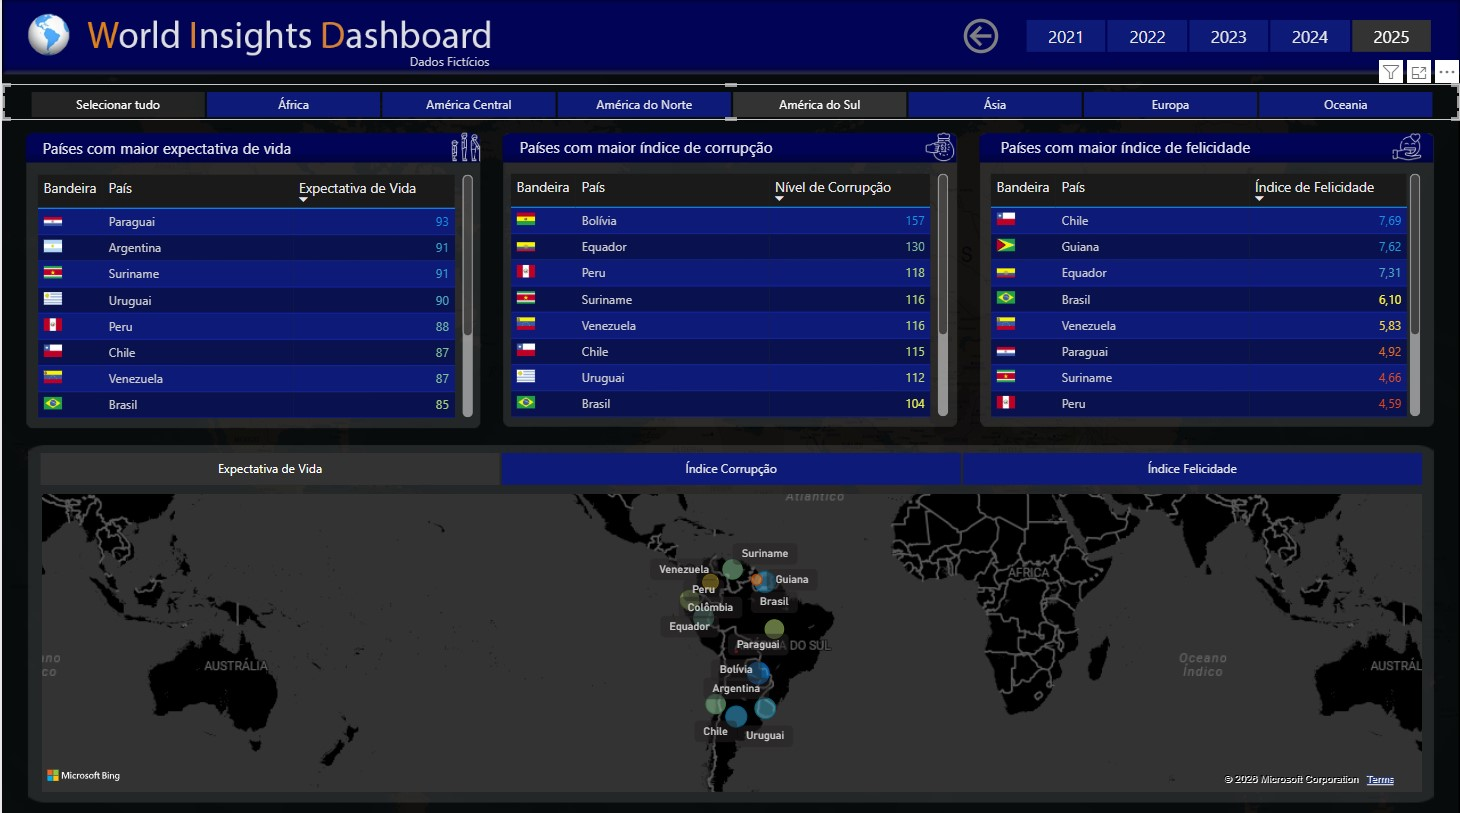

The page's visual inventory and layout, read from the dashboard file:
{"tool":"powerbi","page":{"name":"Global Overview","canvas":[1280,720],"ordinal":1},"visuals":[{"type":"slicer","fields":{"Values":["dCalendario.Date.Variation.Hierarquia de datas.Ano"]},"box":[874,11.4,405,42.1],"z":0},{"type":"slicer","fields":{"Values":["PLANILHA_PAISES.Continente"]},"box":[0,74.6,1280,31.6],"z":1000},{"type":"map","fields":{"Category":["PLANILHA_PAISES.País"],"Size":["Medidas.Valor Selecionado"]},"box":[29.9,429.4,1222.2,272.2],"z":2000},{"type":"slicer","fields":{"Values":["Indicador.Indicador"]},"box":[7.9,391.6,1262.6,42.1],"z":3000},{"type":"tableEx","fields":{"Values":["PLANILHA_PAISES.CountryFlag","PLANILHA_PAISES.País","PLANILHA_PAISES.Espectativa de Vida"]},"box":[25.5,149.3,393.4,223],"z":4000},{"type":"image","box":[389.9,112.4,35.1,35.1],"z":5000},{"type":"textbox","box":[30.7,116.8,256.4,30.7],"z":6000},{"type":"tableEx","fields":{"Values":["PLANILHA_PAISES.CountryFlag","PLANILHA_PAISES.País","PLANILHA_PAISES.Índice de Felicidade"]},"box":[862.4,148.4,388.1,223],"z":7000},{"type":"image","box":[1216.2,112.4,35.1,35.1],"z":8000},{"type":"textbox","box":[871.9,116,256.4,30.7],"z":9000},{"type":"textbox","box":[353,39.5,90.4,31.6],"z":10000},{"type":"tableEx","fields":{"Values":["PLANILHA_PAISES.CountryFlag","PLANILHA_PAISES.País","PLANILHA_PAISES.Nível de Corrupção"]},"box":[440.7,148.4,395.1,223],"z":11000},{"type":"image","box":[805.9,112.4,35.1,35.1],"z":12000},{"type":"textbox","box":[449.4,116,312.6,30.7],"z":13000},{"type":"actionButton","box":[839.4,12.3,44.8,40.4],"z":14001}]}

Visuals, with their boxes in screenshot pixels (x1, y1, x2, y2), scaled from the page's 1280x720 canvas onto the 1460x813 screenshot:
slicer - dCalendario.Date.Variation.Hierarquia de datas.Ano: {"x1": 997, "y1": 13, "x2": 1459, "y2": 60}
slicer - PLANILHA_PAISES.Continente: {"x1": 0, "y1": 84, "x2": 1459, "y2": 120}
map - PLANILHA_PAISES.País x Medidas.Valor Selecionado: {"x1": 34, "y1": 485, "x2": 1428, "y2": 792}
slicer - Indicador.Indicador: {"x1": 9, "y1": 442, "x2": 1449, "y2": 490}
tableEx - PLANILHA_PAISES.CountryFlag x PLANILHA_PAISES.País: {"x1": 29, "y1": 169, "x2": 478, "y2": 420}
image: {"x1": 445, "y1": 127, "x2": 485, "y2": 167}
textbox: {"x1": 35, "y1": 132, "x2": 327, "y2": 167}
tableEx - PLANILHA_PAISES.CountryFlag x PLANILHA_PAISES.País: {"x1": 984, "y1": 168, "x2": 1426, "y2": 419}
image: {"x1": 1387, "y1": 127, "x2": 1427, "y2": 167}
textbox: {"x1": 995, "y1": 131, "x2": 1287, "y2": 166}
textbox: {"x1": 403, "y1": 45, "x2": 506, "y2": 80}
tableEx - PLANILHA_PAISES.CountryFlag x PLANILHA_PAISES.País: {"x1": 503, "y1": 168, "x2": 953, "y2": 419}
image: {"x1": 919, "y1": 127, "x2": 959, "y2": 167}
textbox: {"x1": 513, "y1": 131, "x2": 869, "y2": 166}
actionButton: {"x1": 957, "y1": 14, "x2": 1009, "y2": 60}
